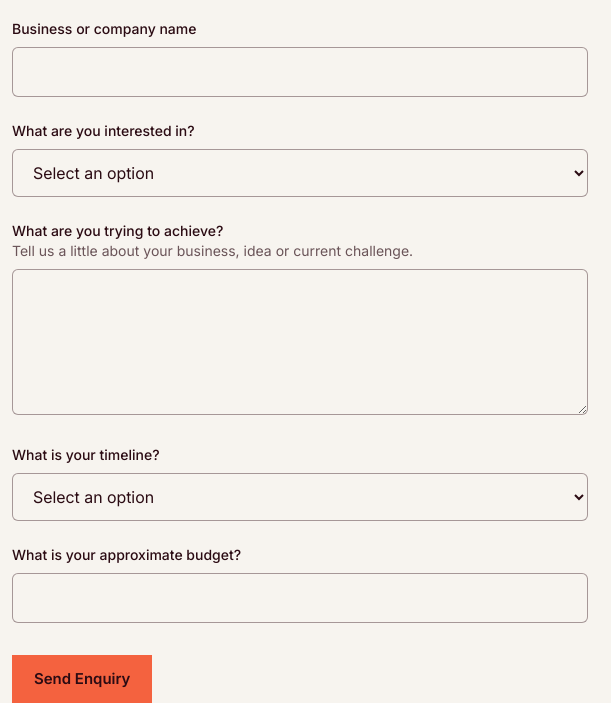
Test: StartProjectForm › shows validation errors instead of the success state when submitted empty
(page scrolled)
Click the button "Send Enquiry". click: (82, 679)
box: [12,655,152,702]
(page scrolled)
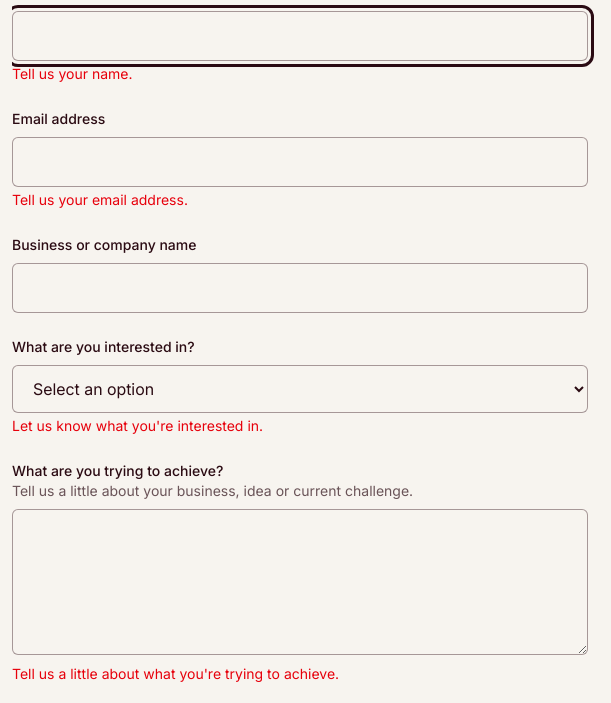
expect the text "Tell us your name." is shown: met, box [12,65,132,82]
